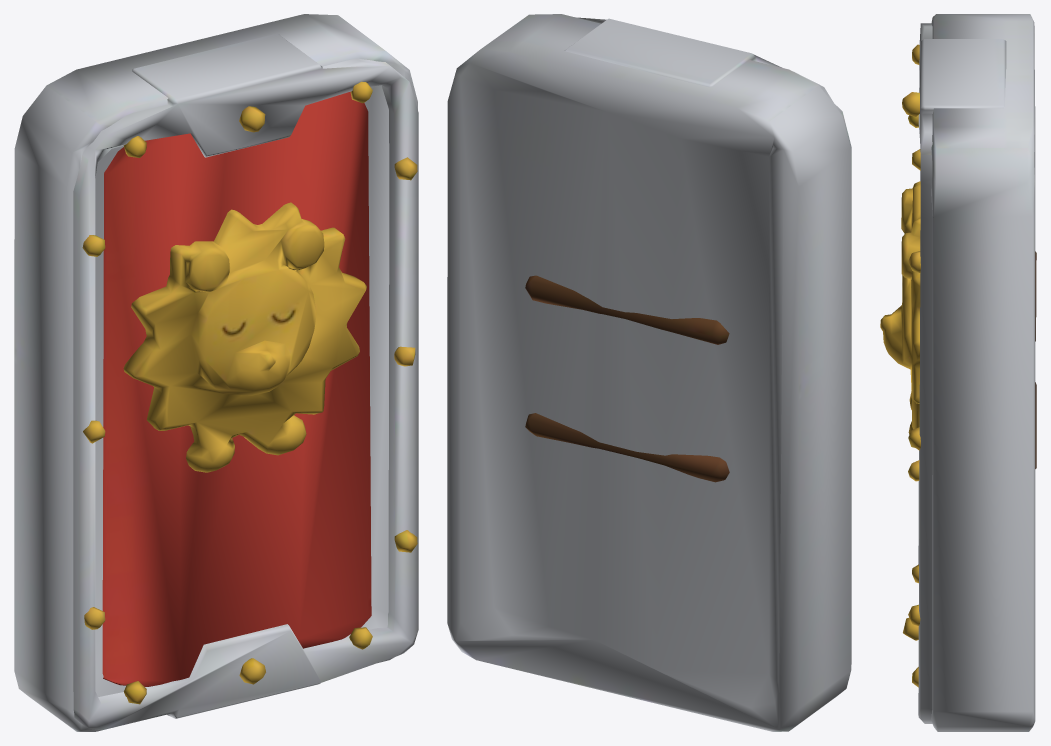
The model's file is tower-shield.glb.
The picture shows the model from 3 angles, left to right: view 1: azimuth 30°, elevation 25°; view 2: azimuth 150°, elevation 25°; view 3: azimuth 270°, elevation 25°; orthographic projection. The views are drawn at different scales.
Parts seen in each view (by area): view 1: rim; view 2: rim; view 3: rim.
Part boxes in pixels (<box>): rim: <box>14,14,418,731</box>; rim: <box>447,14,851,731</box>; rim: <box>880,14,1036,731</box>.
Size of the model in its own units: 0.5929 by 0.9998 by 0.2402.
1 material, 1 textured.
